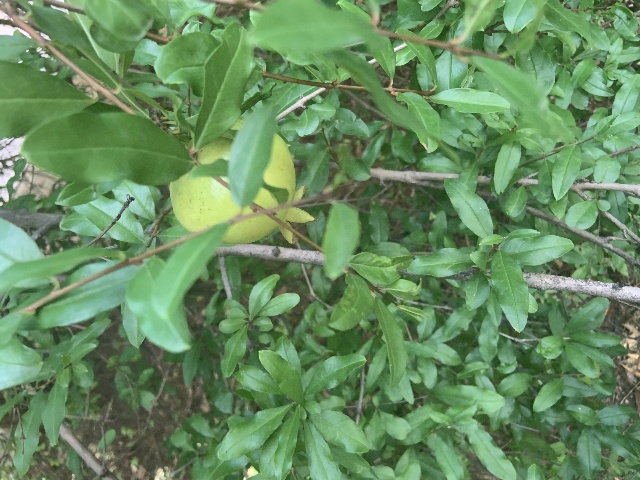mid-growth: (169, 119, 317, 245)
